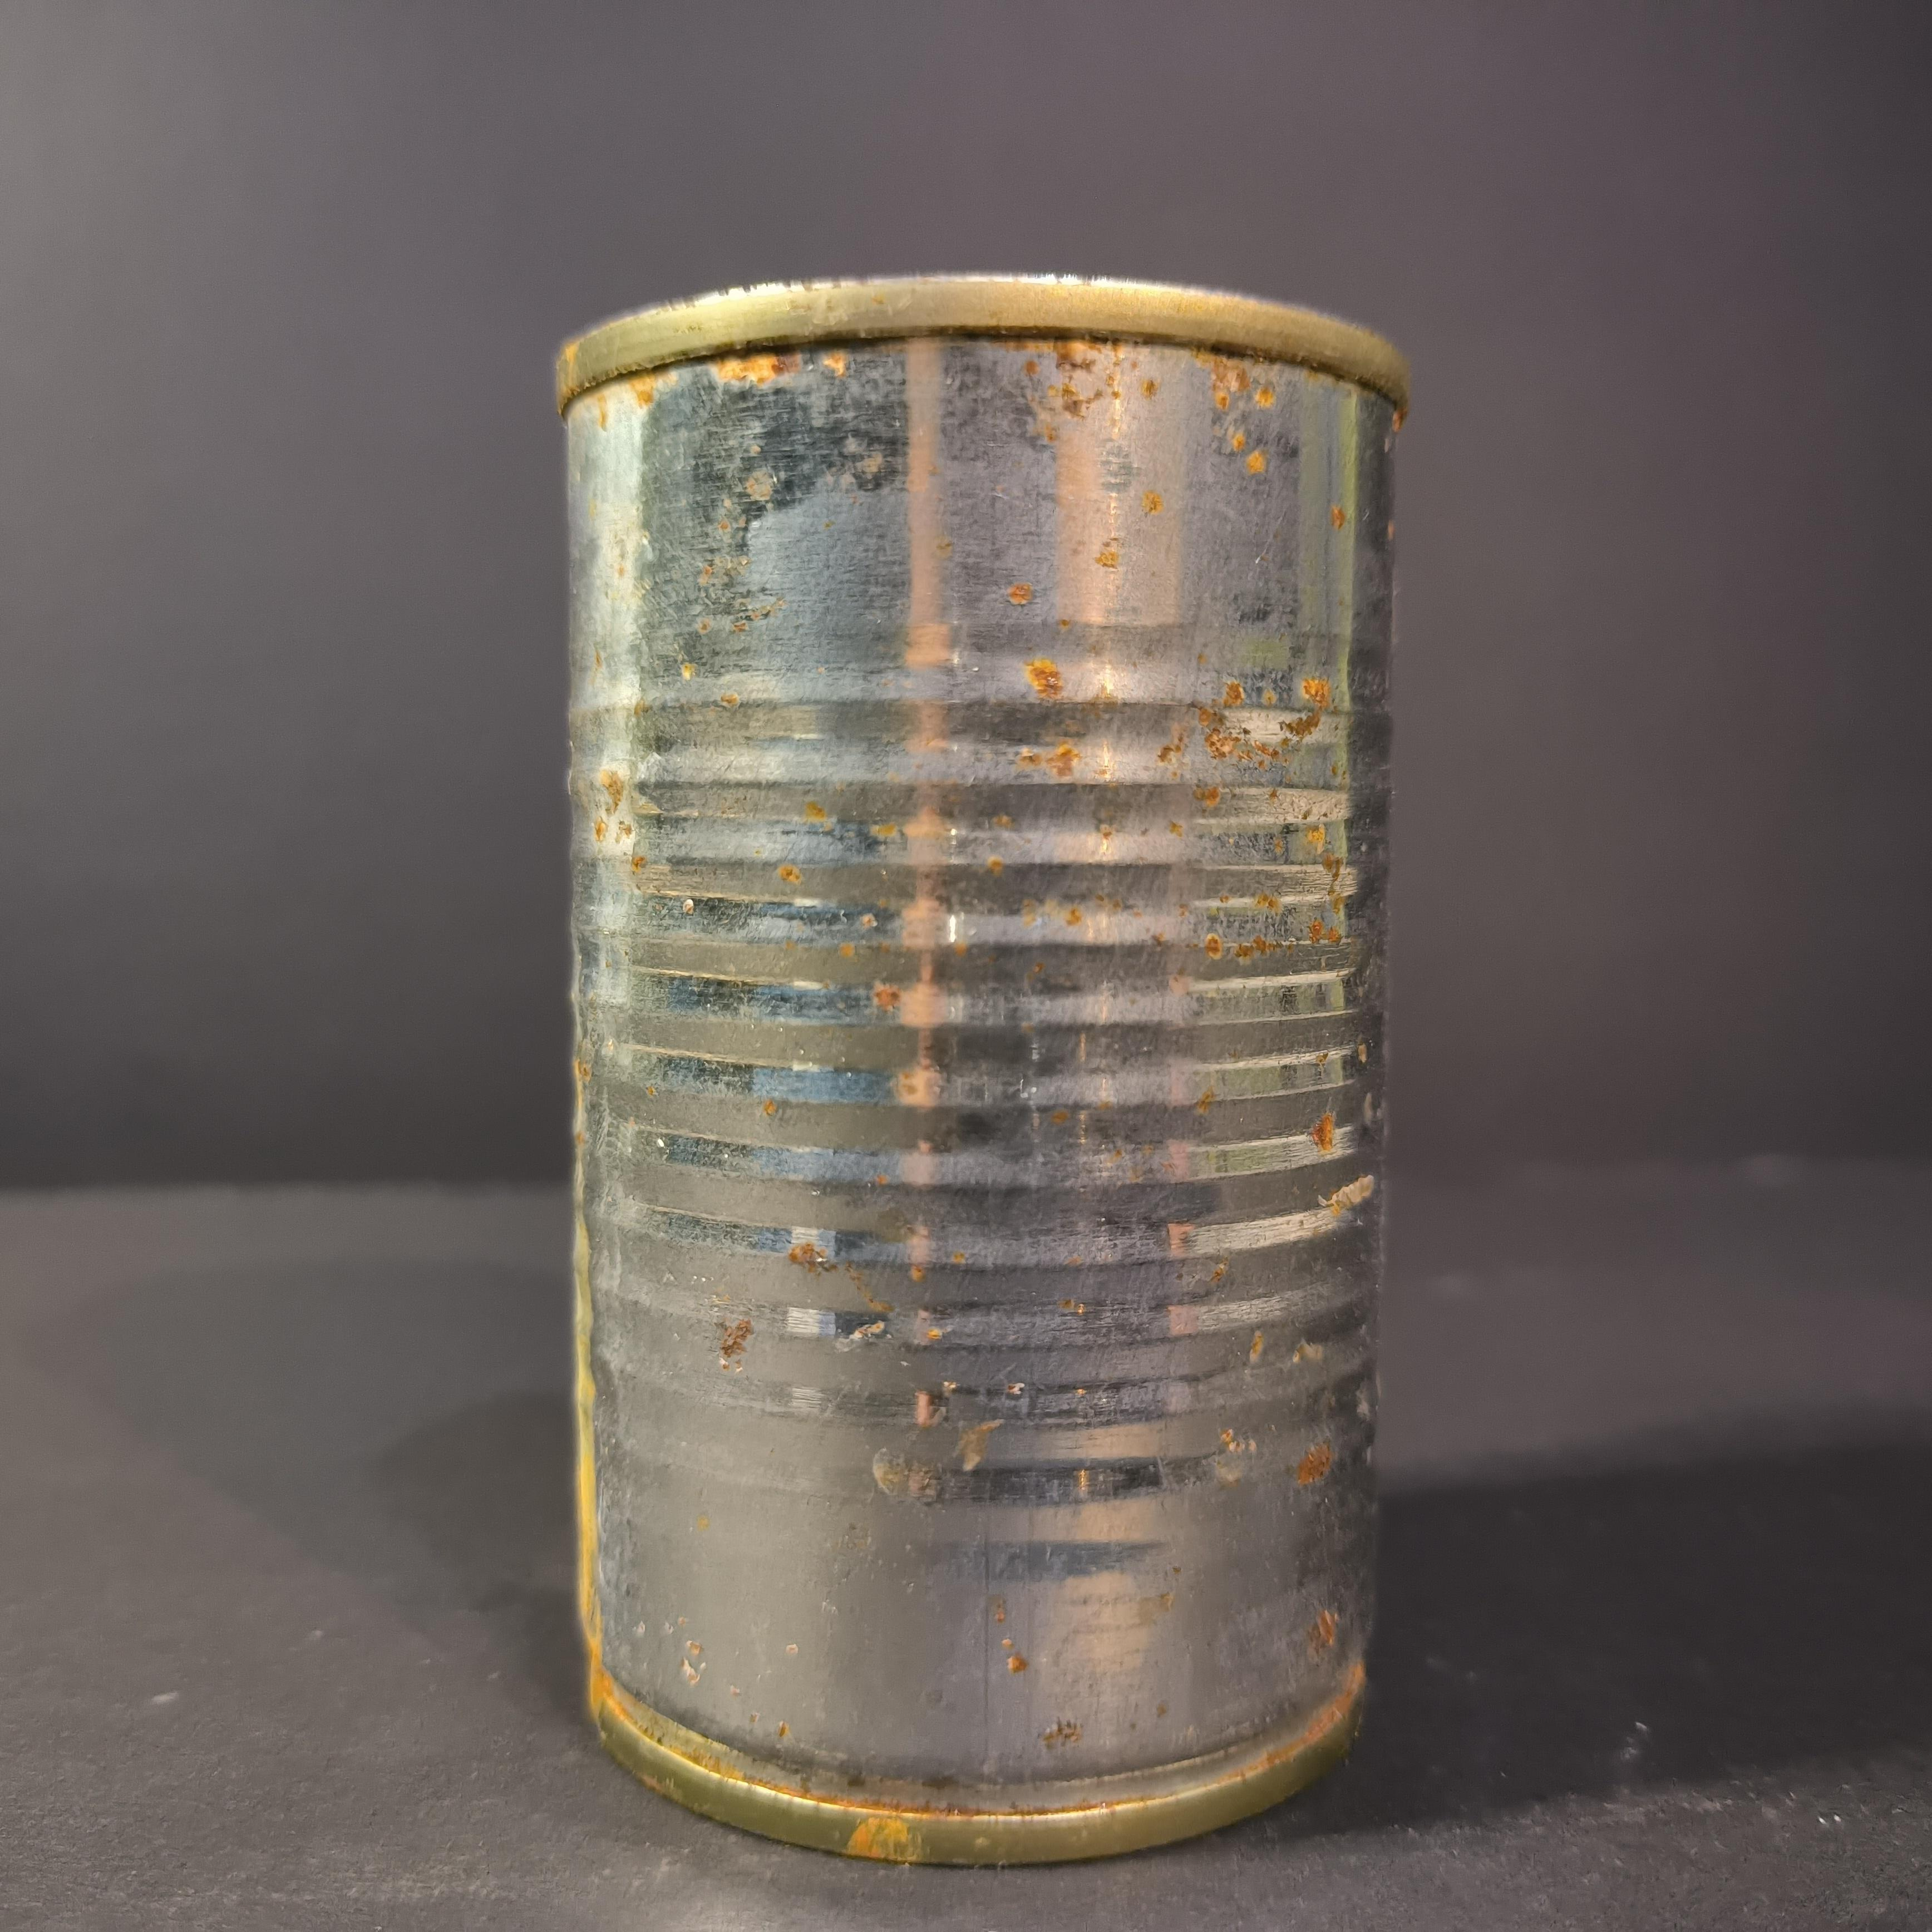Rusted: (534, 244, 1438, 1895)
